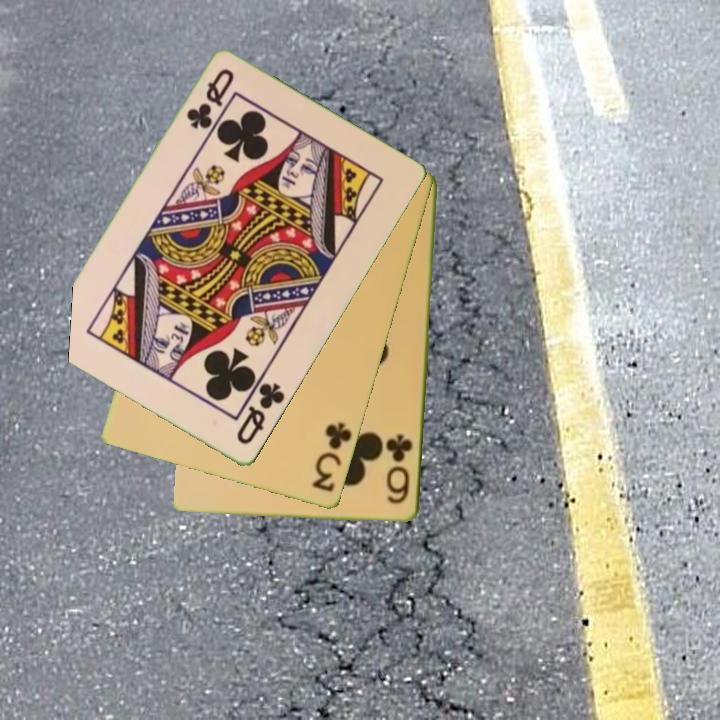3c: (308, 419, 355, 496)
6c: (383, 431, 416, 507)
Qc: (182, 65, 238, 133), (233, 379, 288, 448)
